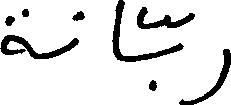X: (197, 44, 230, 104), (0, 4, 28, 59), (175, 13, 183, 104), (113, 0, 124, 65), (69, 7, 78, 55)
